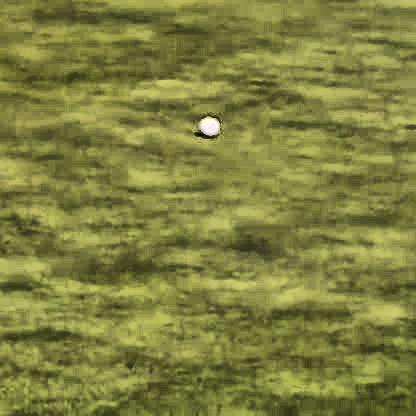golfball: (196, 114, 218, 136)
